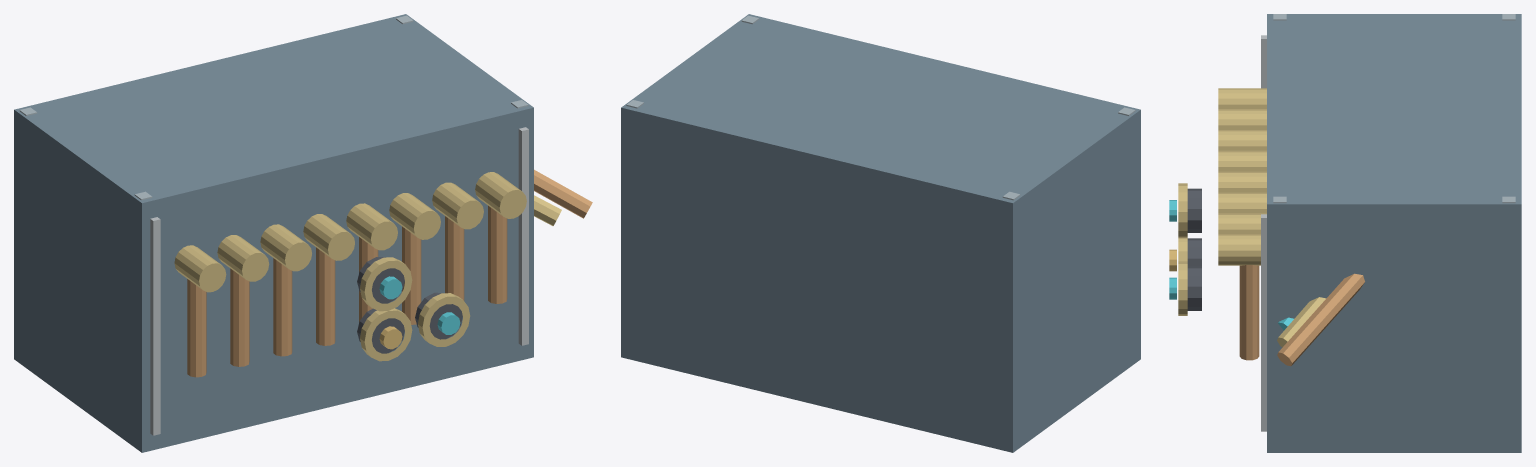
File: 22_L82_360DegreeShieldTerminationClamp.glb
The picture shows the model from 3 angles, left to right: view 1: azimuth 30°, elevation 25°; view 2: azimuth 150°, elevation 25°; view 3: azimuth 270°, elevation 25°; orthographic projection.
Parts seen in each view (by area): view 1: 360DegreeShieldTerminationClamp_Node_0000, 360DegreeShieldTerminationClamp_Node_0005, 360DegreeShieldTerminationClamp_Node_0006, 360DegreeShieldTerminationClamp_Node_0008, 360DegreeShieldTerminationClamp_Node_0012, 360DegreeShieldTerminationClamp_Node_0010, 360DegreeShieldTerminationClamp_Node_0014, 360DegreeShieldTerminationClamp_Node_0022, 360DegreeShieldTerminationClamp_Node_0019, 360DegreeShieldTerminationClamp_Node_0011, 360DegreeShieldTerminationClamp_Node_0007, 360DegreeShieldTerminationClamp_Node_0015 (+13 smaller); view 2: 360DegreeShieldTerminationClamp_Node_0000; view 3: 360DegreeShieldTerminationClamp_Node_0000, 360DegreeShieldTerminationClamp_Node_0042, 360DegreeShieldTerminationClamp_Node_0022, 360DegreeShieldTerminationClamp_Node_0021, 360DegreeShieldTerminationClamp_Node_0006, 360DegreeShieldTerminationClamp_Node_0013, 360DegreeShieldTerminationClamp_Node_0015, 360DegreeShieldTerminationClamp_Node_0017, 360DegreeShieldTerminationClamp_Node_0007, 360DegreeShieldTerminationClamp_Node_0009, 360DegreeShieldTerminationClamp_Node_0011, 360DegreeShieldTerminationClamp_Node_0019 (+6 smaller).
Part boxes in pixels (x1,y1,x2,y2): 360DegreeShieldTerminationClamp_Node_0000: [14, 14, 533, 452]; 360DegreeShieldTerminationClamp_Node_0005: [150, 217, 160, 435]; 360DegreeShieldTerminationClamp_Node_0006: [518, 127, 528, 345]; 360DegreeShieldTerminationClamp_Node_0008: [187, 279, 206, 377]; 360DegreeShieldTerminationClamp_Node_0012: [273, 258, 292, 356]; 360DegreeShieldTerminationClamp_Node_0010: [230, 268, 249, 366]; 360DegreeShieldTerminationClamp_Node_0014: [316, 247, 335, 345]; 360DegreeShieldTerminationClamp_Node_0022: [488, 205, 507, 303]; 360DegreeShieldTerminationClamp_Node_0019: [432, 182, 483, 229]; 360DegreeShieldTerminationClamp_Node_0011: [260, 224, 311, 271]; 360DegreeShieldTerminationClamp_Node_0007: [174, 245, 226, 292]; 360DegreeShieldTerminationClamp_Node_0015: [346, 203, 397, 250]; 360DegreeShieldTerminationClamp_Node_0000: [621, 14, 1140, 452]; 360DegreeShieldTerminationClamp_Node_0000: [1267, 14, 1521, 452]; 360DegreeShieldTerminationClamp_Node_0042: [1277, 273, 1364, 366]; 360DegreeShieldTerminationClamp_Node_0022: [1239, 265, 1259, 360]; 360DegreeShieldTerminationClamp_Node_0021: [1218, 234, 1260, 265]; 360DegreeShieldTerminationClamp_Node_0006: [1261, 214, 1266, 431]; 360DegreeShieldTerminationClamp_Node_0013: [1218, 150, 1266, 171]; 360DegreeShieldTerminationClamp_Node_0015: [1218, 171, 1266, 192]; 360DegreeShieldTerminationClamp_Node_0017: [1218, 192, 1266, 213]; 360DegreeShieldTerminationClamp_Node_0007: [1218, 88, 1266, 108]; 360DegreeShieldTerminationClamp_Node_0009: [1218, 109, 1266, 129]; 360DegreeShieldTerminationClamp_Node_0011: [1218, 130, 1266, 150]; 360DegreeShieldTerminationClamp_Node_0019: [1218, 213, 1266, 234].
Bounding box in the file's own units: 1.35 × 0.7035 × 0.9.
